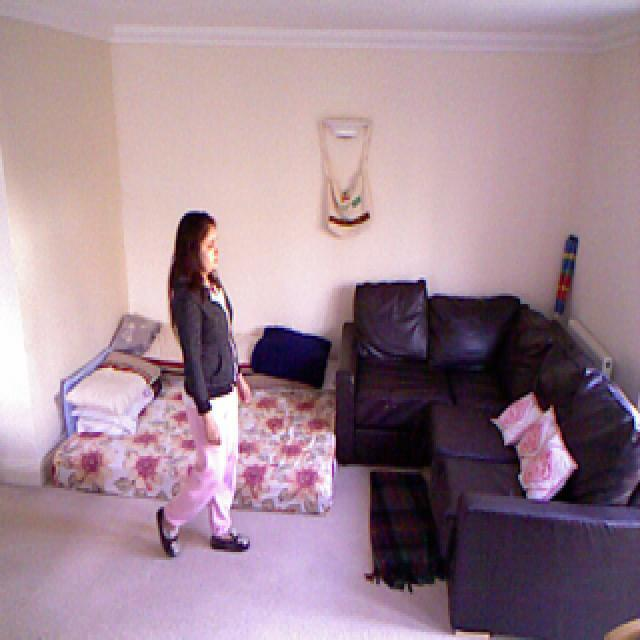walking: (146, 195, 270, 585)
